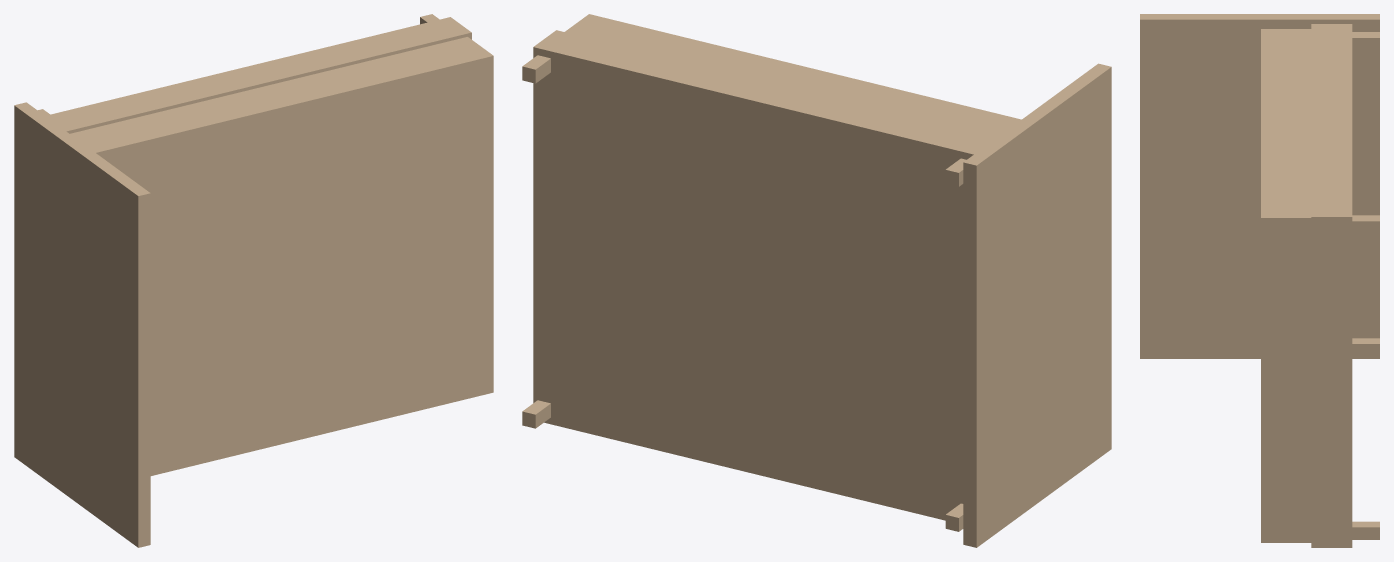
File: bed.glb
3 renders of one model, left to right at view 1: azimuth 30°, elevation 25°; view 2: azimuth 150°, elevation 25°; view 3: azimuth 270°, elevation 25°, orthographic. The views are drawn at different scales.
Parts seen in each view (by area): view 1: bed; view 2: bed; view 3: bed.
Part boxes in pixels (x1,y1,x2,y2): bed: [14, 14, 493, 547]; bed: [522, 14, 1111, 547]; bed: [1140, 14, 1379, 547].
Bounding box in the file's own units: 2060 × 1640 × 1050.
